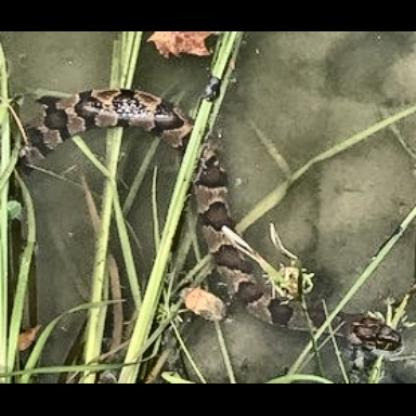Snake: (38, 67, 416, 360), (47, 64, 229, 152)
